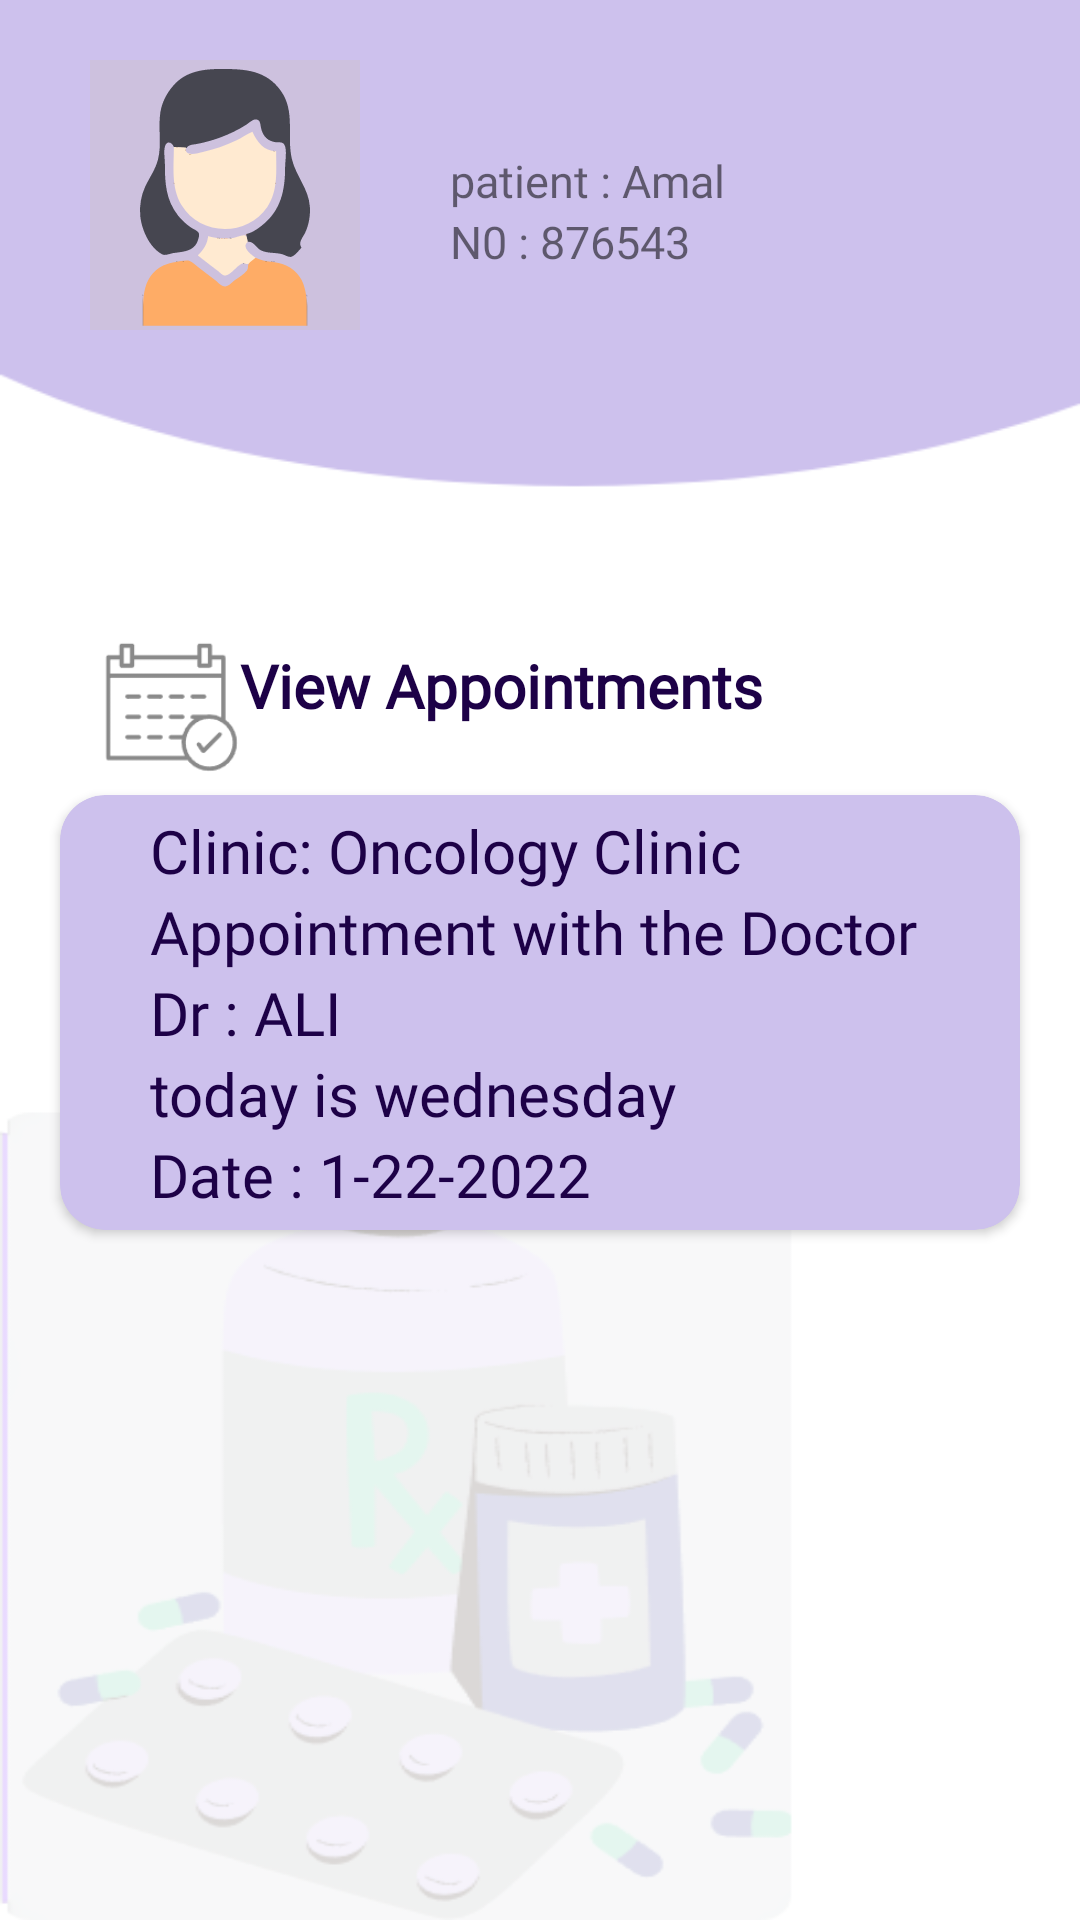

Point at icon controls on the screen. Image size 1080 × 1920, points as (x=x, y=y).
calendar: (x=171, y=707)
person: (x=225, y=197)
